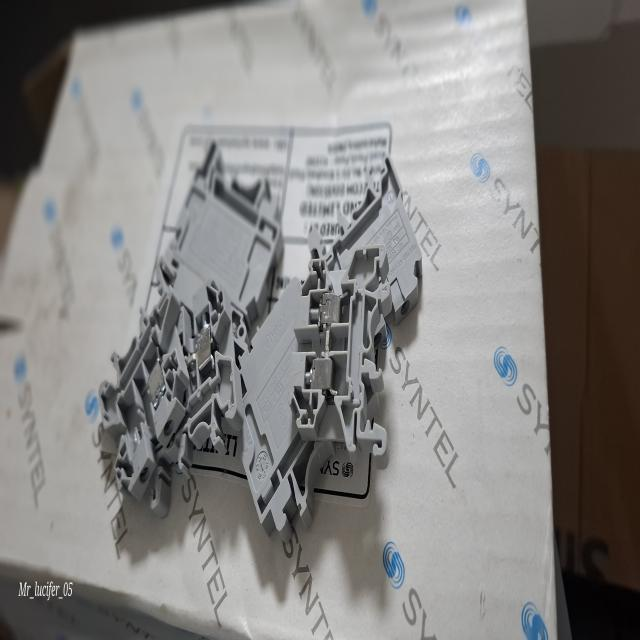Pass: (290, 222, 390, 479)
Reject: (90, 300, 194, 513)
